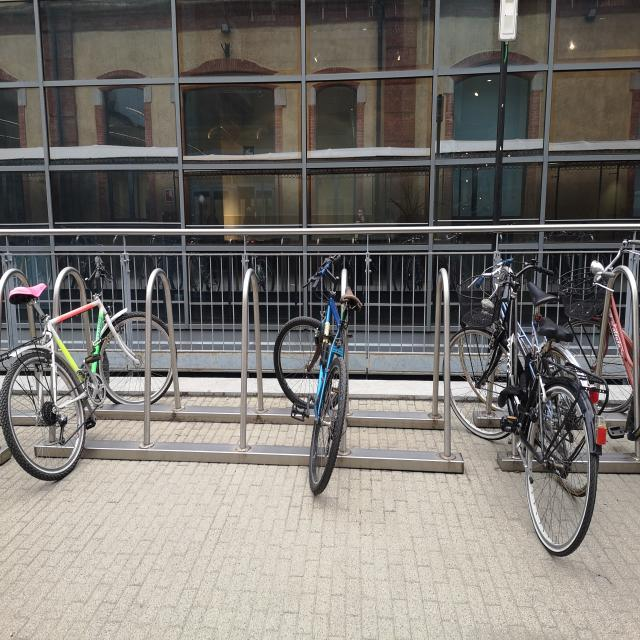Bicycle: (447, 264, 609, 586), (8, 259, 172, 485), (285, 254, 373, 499), (565, 232, 640, 518)
